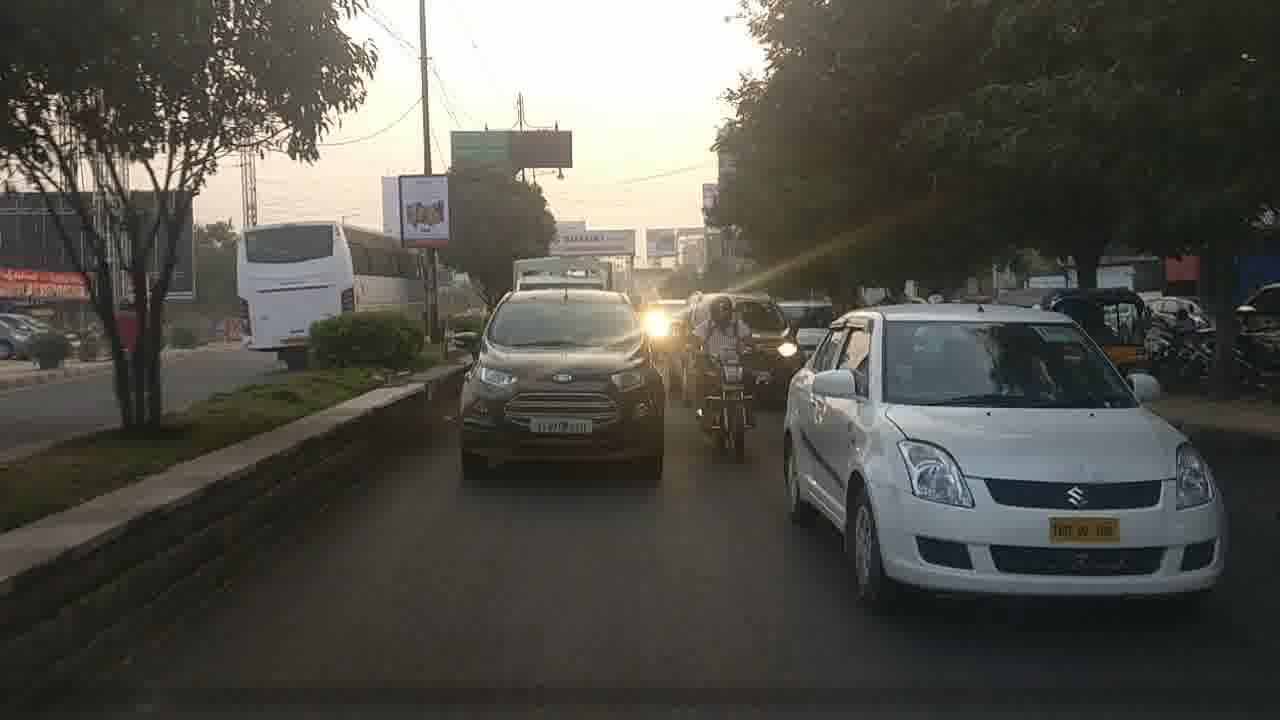swift desire: (788, 306, 1224, 590)
